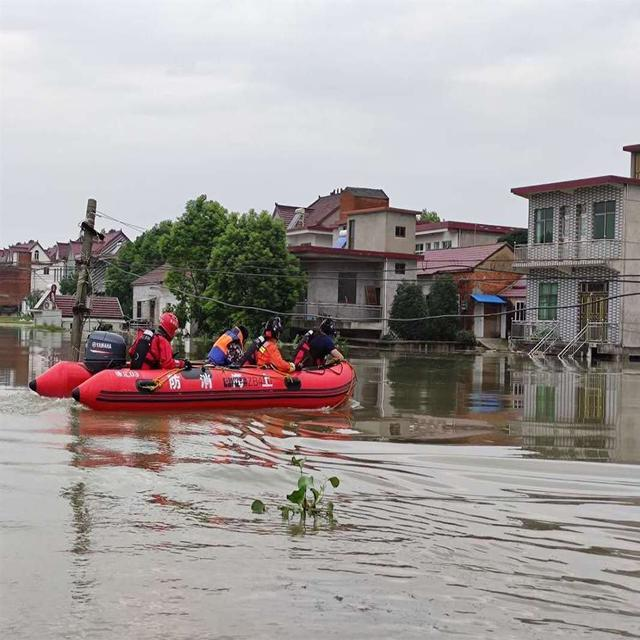Person-RiskLevel3: (123, 301, 186, 378), (296, 313, 349, 378), (253, 309, 295, 377), (201, 316, 249, 373)
